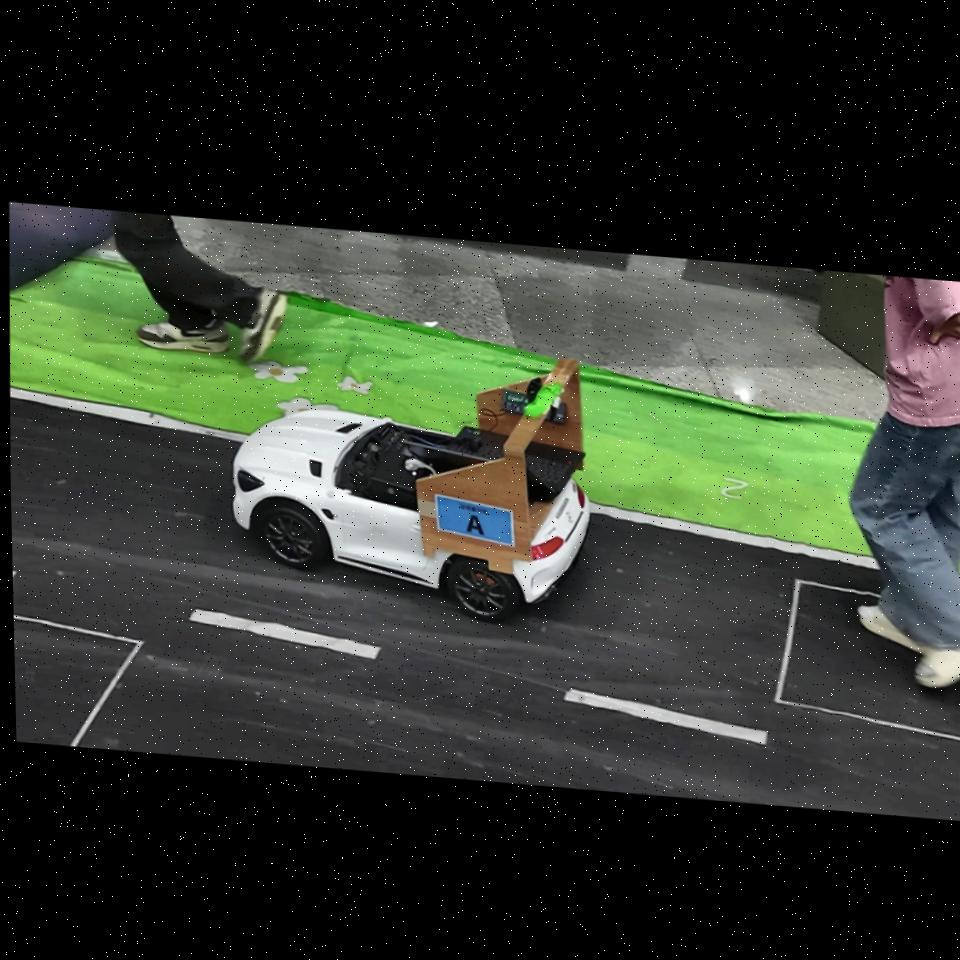broken_line: (564, 689, 767, 745), (189, 609, 380, 659), (13, 571, 17, 577)
